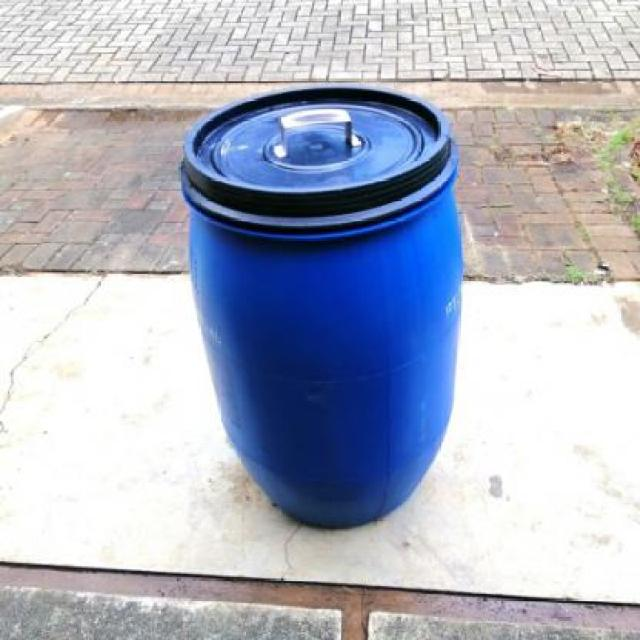garbage container: (173, 78, 472, 545)
